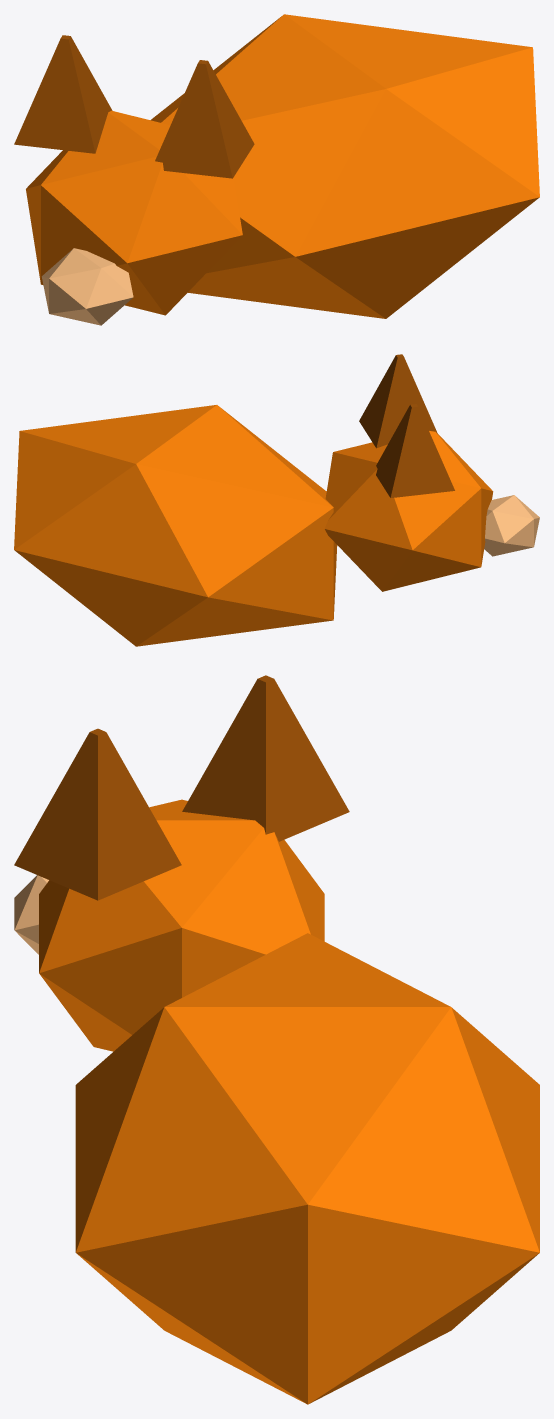
The model's file is cat.glb.
3 views of the same model, one above another, from view 1: azimuth 30°, elevation 25°; view 2: azimuth 150°, elevation 25°; view 3: azimuth 270°, elevation 25° (orthographic). The views are drawn at different scales.
Visible parts, largest first — view 1: Body; view 2: Body; view 3: Body.
Part boxes in pixels (x1,y1,x2,y2): Body: (14,14,539,325); Body: (14,354,539,646); Body: (14,675,539,1404).
Bounding box in the file's own units: 0.4379 × 0.2401 × 0.2506.
